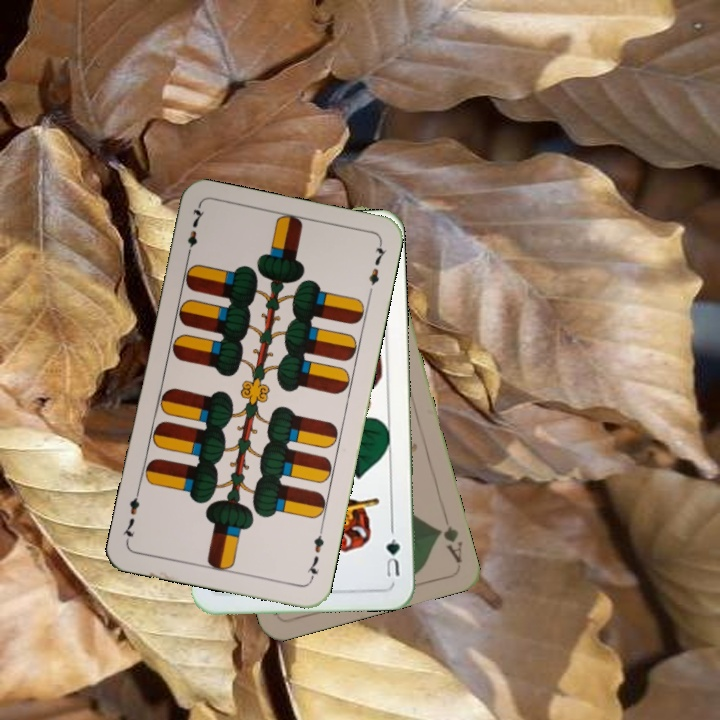E7: (302, 524, 327, 583), (182, 203, 207, 262)
GA: (432, 521, 465, 566)
GU: (381, 534, 403, 582)
